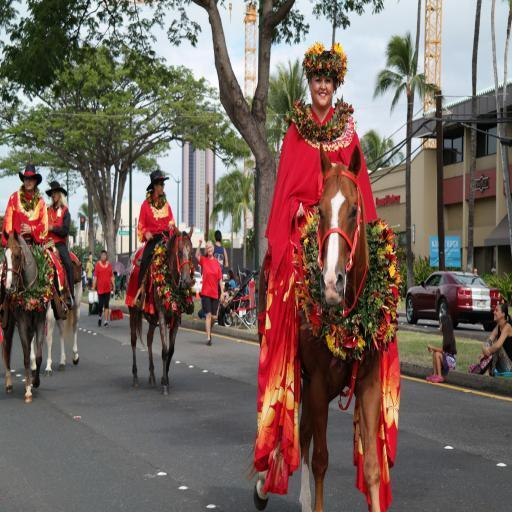horse: (242, 140, 384, 512), (126, 220, 194, 395), (0, 230, 50, 404), (30, 252, 85, 379)
